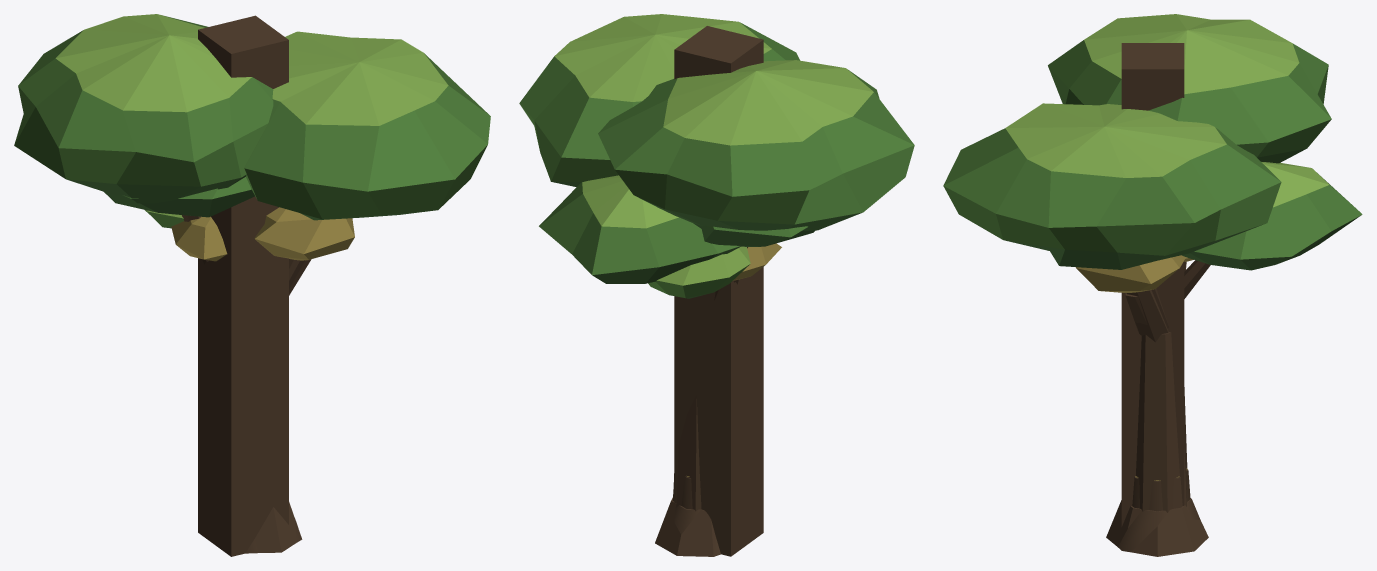
Rendered from tree_broadleaf.glb.
3 renders of one model, left to right at view 1: azimuth 30°, elevation 25°; view 2: azimuth 150°, elevation 25°; view 3: azimuth 270°, elevation 25°, orthographic. The views are drawn at different scales.
Parts seen in each view (by area): view 1: TreeBroadleaf_Full_LOD0, col_TreeBroadleaf, TreeBroadleaf_Half_LOD0, TreeBroadleaf_Low_LOD0; view 2: TreeBroadleaf_Full_LOD0, col_TreeBroadleaf, TreeBroadleaf_Half_LOD0, TreeBroadleaf_Stump_LOD0, TreeBroadleaf_Low_LOD0; view 3: TreeBroadleaf_Full_LOD0, col_TreeBroadleaf, TreeBroadleaf_Half_LOD0, TreeBroadleaf_Stump_LOD0.
Part boxes in pixels (x1,y1,x2,y2): TreeBroadleaf_Full_LOD0: (14, 14, 490, 552); col_TreeBroadleaf: (198, 15, 288, 556); TreeBroadleaf_Half_LOD0: (104, 177, 354, 268); TreeBroadleaf_Low_LOD0: (171, 216, 311, 295); TreeBroadleaf_Full_LOD0: (519, 14, 914, 556); col_TreeBroadleaf: (674, 26, 763, 556); TreeBroadleaf_Half_LOD0: (693, 223, 814, 300); TreeBroadleaf_Stump_LOD0: (671, 476, 720, 556); TreeBroadleaf_Low_LOD0: (733, 243, 781, 284); TreeBroadleaf_Full_LOD0: (943, 14, 1362, 556); col_TreeBroadleaf: (1121, 43, 1184, 526); TreeBroadleaf_Half_LOD0: (1075, 255, 1186, 328); TreeBroadleaf_Stump_LOD0: (1118, 468, 1200, 552).
Size of what is drawn, in the model's own units: 4 by 5 by 4.
